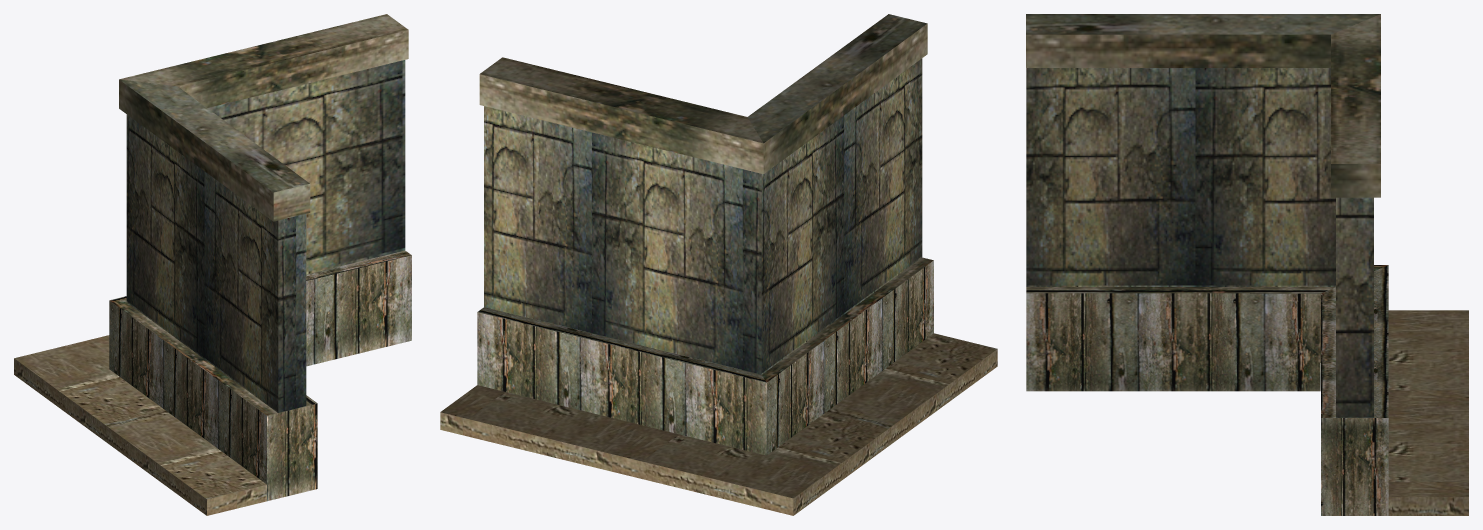
The model's file is HouseWall04.obj.
3 views of the same model, side by side, from view 1: azimuth 30°, elevation 25°; view 2: azimuth 150°, elevation 25°; view 3: azimuth 270°, elevation 25° (orthographic). The views are drawn at different scales.
Visible parts, largest first — view 1: Mesh_0, Mesh_1, Mesh_2; view 2: Mesh_0, Mesh_1, Mesh_2; view 3: Mesh_0, Mesh_1, Mesh_2.
Boxes of the visible parts, x1,y1,x2,y2 form: Mesh_0: (126, 60, 405, 412); Mesh_1: (109, 14, 411, 501); Mesh_2: (14, 335, 266, 515); Mesh_0: (484, 58, 922, 374); Mesh_1: (477, 14, 933, 455); Mesh_2: (440, 333, 997, 515); Mesh_0: (1026, 68, 1373, 417); Mesh_1: (1026, 14, 1388, 515); Mesh_2: (1388, 310, 1468, 515).
Bounding box in the file's own units: 3.01 × 2.64 × 3.01.
Materials: 3 (3 with a texture image).
